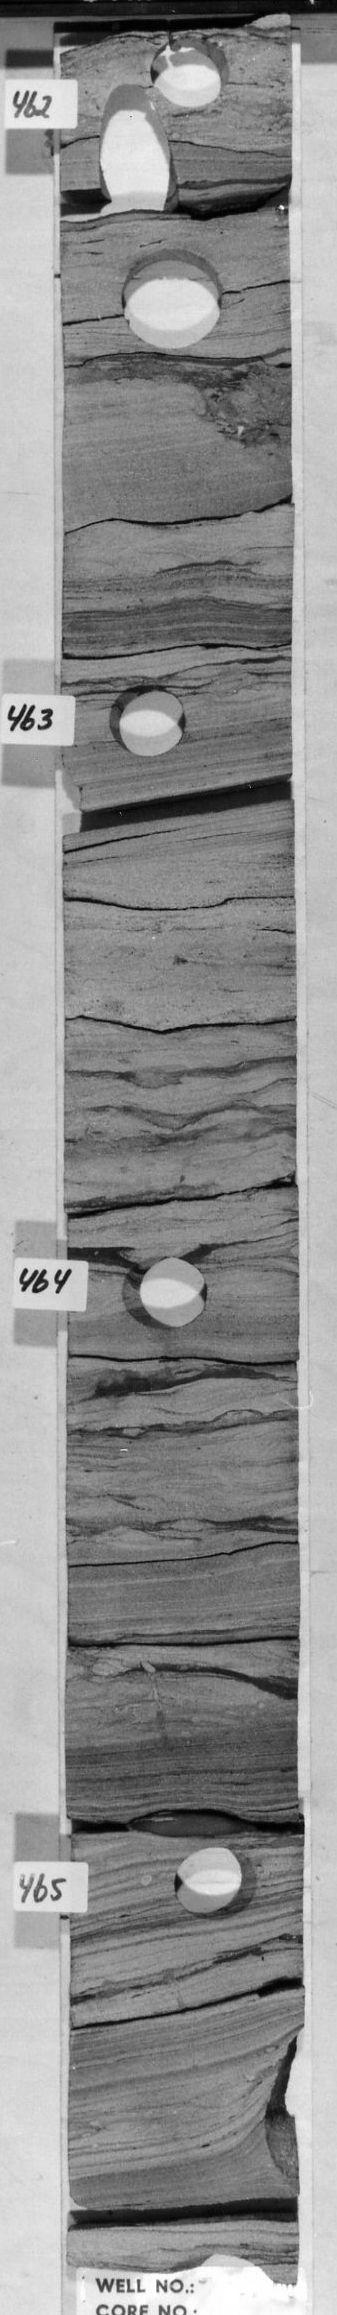hplug: (117, 1251, 211, 1332), (168, 1843, 262, 1919), (149, 35, 238, 112), (106, 681, 191, 757)
scal: (109, 242, 231, 354)
vplug: (92, 80, 180, 219)
